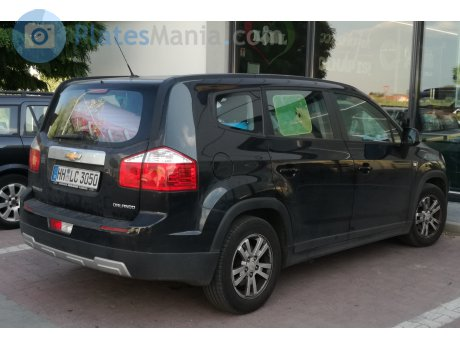License Plates: (53, 159, 93, 184)
